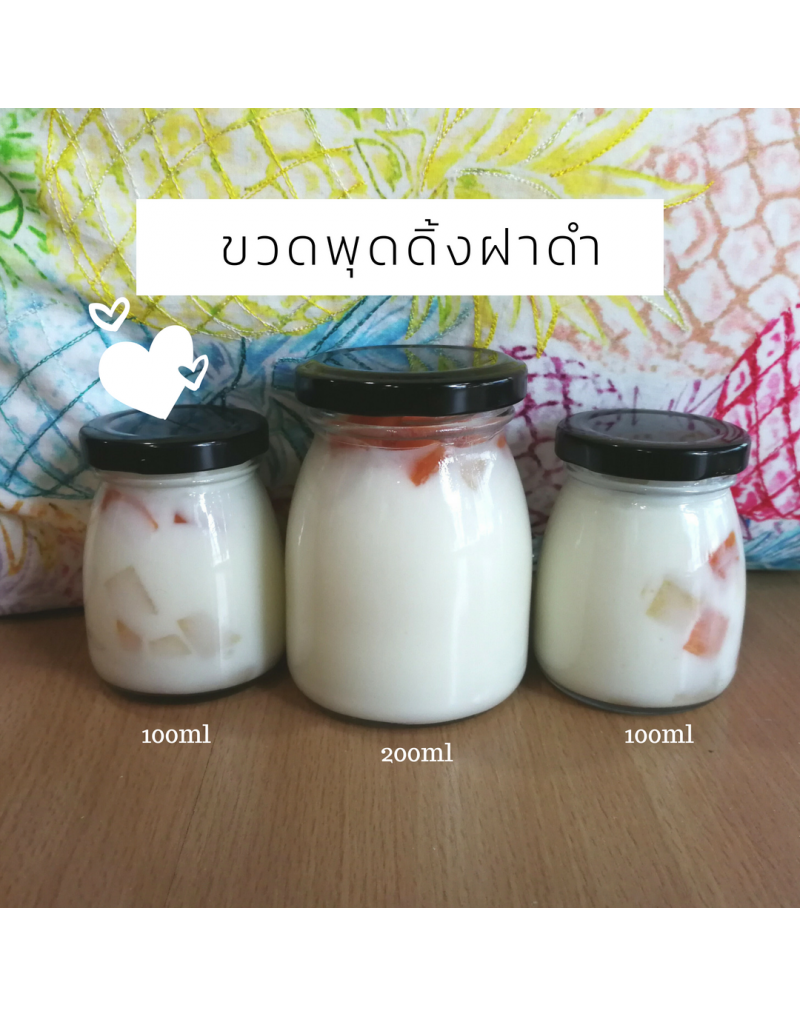glass_bottle: (287, 337, 531, 736), (538, 396, 767, 718), (76, 402, 285, 709)
